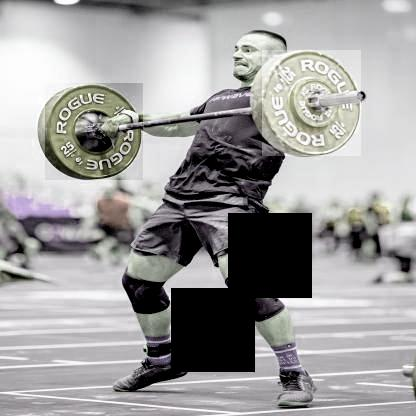barbell: (263, 50, 361, 157), (45, 83, 144, 180)
